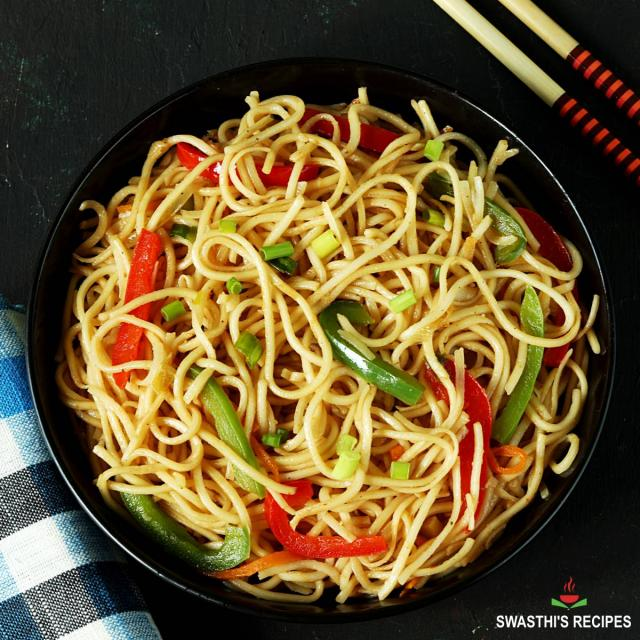noodle: (70, 87, 590, 605)
